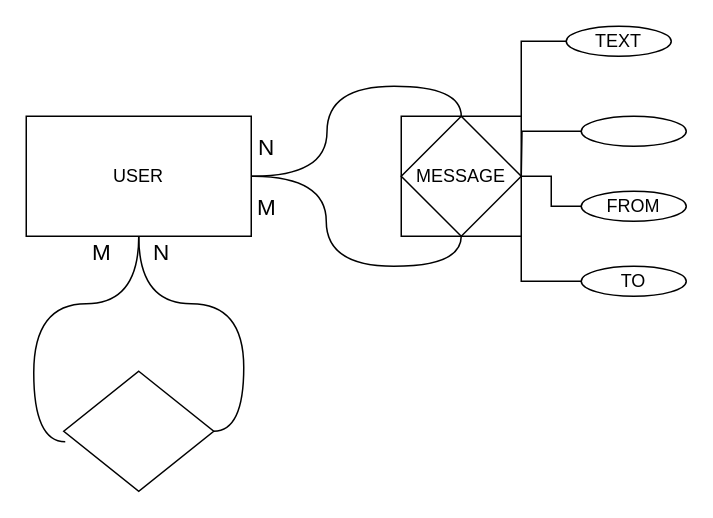
Image size: 713x518. Some labels were removed from this diagram. Each missing label, with the box of its shape:
HAS_CONTACT: (62, 370, 214, 491)
IS_READ: (580, 115, 686, 146)
